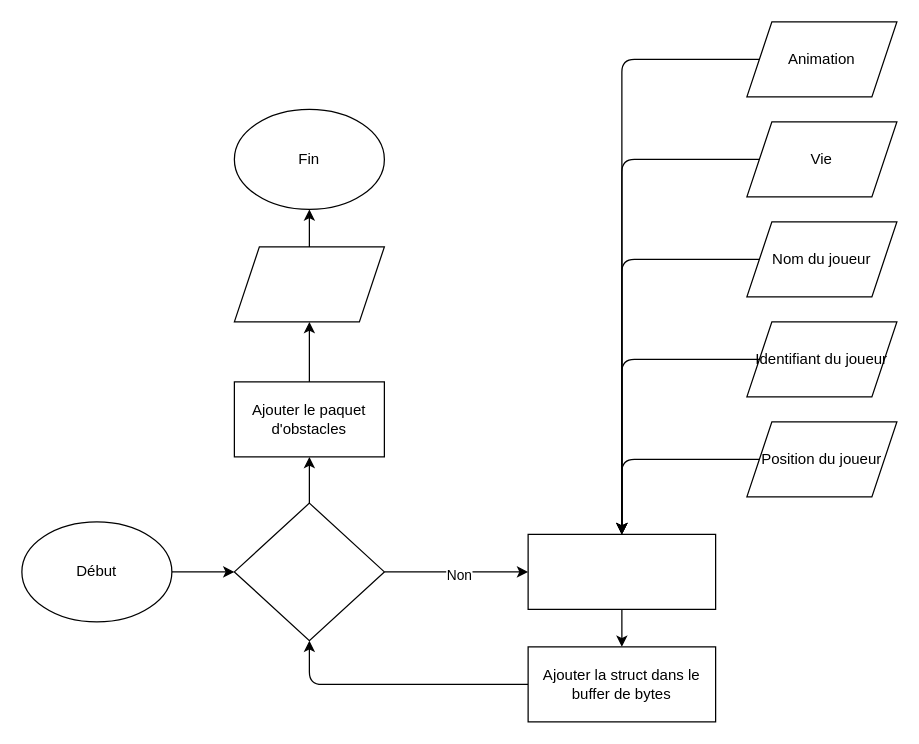
This 919x744 diagram has some shape labels left out. Each missing label, with the centre of its shape:
Chaque joueurs ont leur paquet?: (x=308, y=571)
Créer une struct d'un joueur: (x=621, y=571)
Envoyer le paquet de MAJ: (x=308, y=284)
